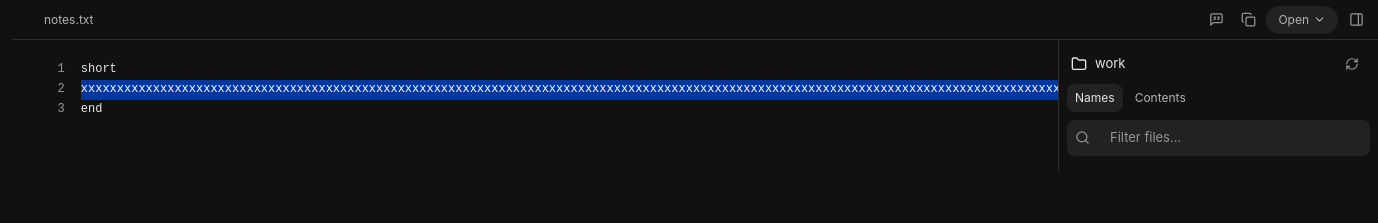
Test: Files: Add selection to chat › a selection over the limit is refused with the next step, not cut
This screenshot has width=1378, height=223.
Click the button named "Add selection to chat".
click(1216, 20)  # box x1=1202 y1=6 x2=1230 y2=34
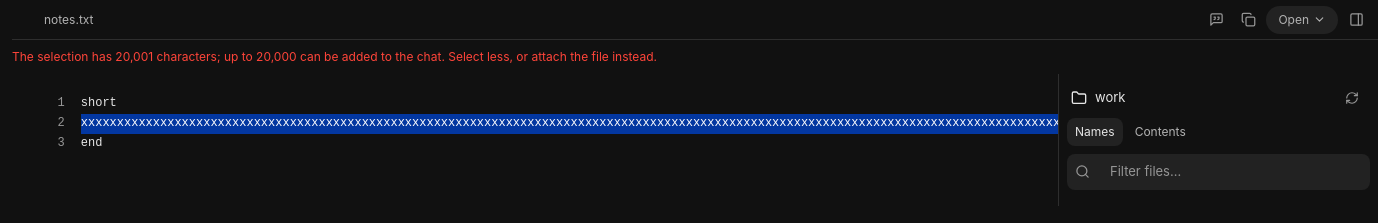
Check: the text "Select less, or attach the file instead." is shown, box x1=12 y1=49 x2=657 y2=64
